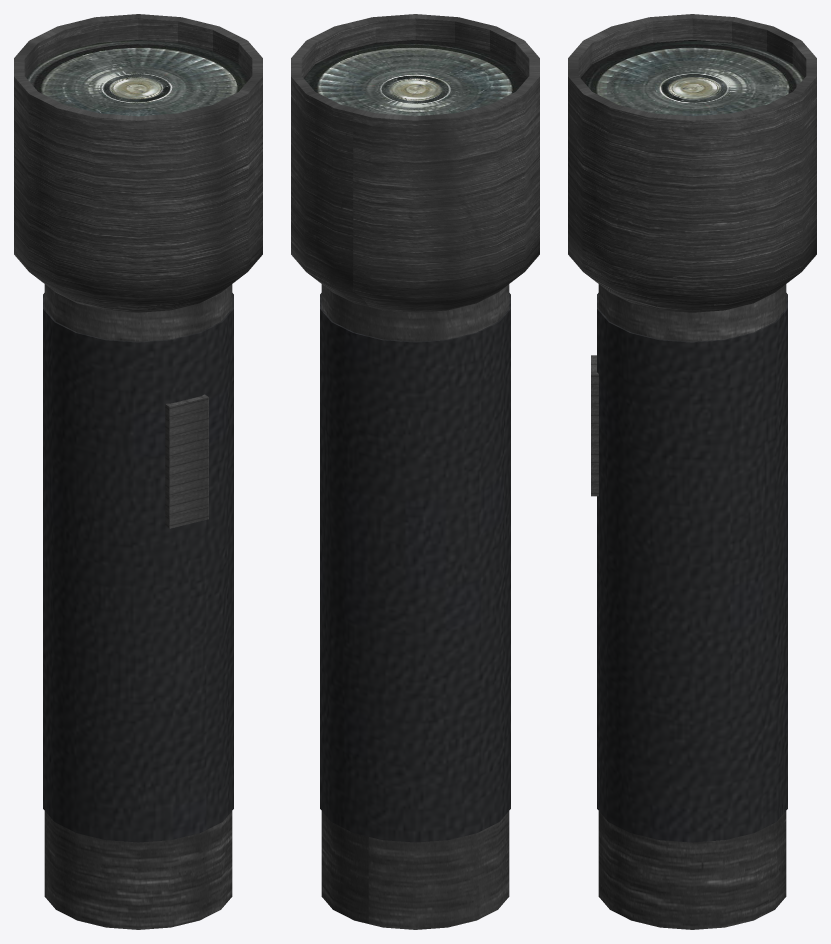
File: flashlight.FBX
3 views of the same model, side by side, from view 1: azimuth 30°, elevation 25°; view 2: azimuth 150°, elevation 25°; view 3: azimuth 270°, elevation 25° (orthographic).
Visible parts, largest first — view 1: Cylinder003, Cylinder002, Cylinder001, Object001, Box001; view 2: Cylinder003, Cylinder002, Cylinder001, Object001; view 3: Cylinder003, Cylinder002, Cylinder001, Object001, Box001.
Part boxes in pixels (x1=…): Cylinder003: x1=43, y1=293, x2=233, y2=842; Cylinder002: x1=14, y1=14, x2=262, y2=312; Cylinder001: x1=44, y1=284, x2=232, y2=929; Object001: x1=26, y1=40, x2=250, y2=116; Box001: x1=165, y1=394, x2=208, y2=528; Cylinder003: x1=320, y1=293, x2=510, y2=842; Cylinder002: x1=291, y1=14, x2=539, y2=312; Cylinder001: x1=321, y1=284, x2=509, y2=929; Object001: x1=303, y1=40, x2=527, y2=116; Cylinder003: x1=597, y1=293, x2=787, y2=842; Cylinder002: x1=568, y1=14, x2=816, y2=312; Cylinder001: x1=598, y1=284, x2=786, y2=929; Object001: x1=580, y1=40, x2=804, y2=116; Box001: x1=591, y1=355, x2=598, y2=496.
Size of the model in its own units: 5.26 by 18.88 by 5.18.
3 materials, 3 textured.
